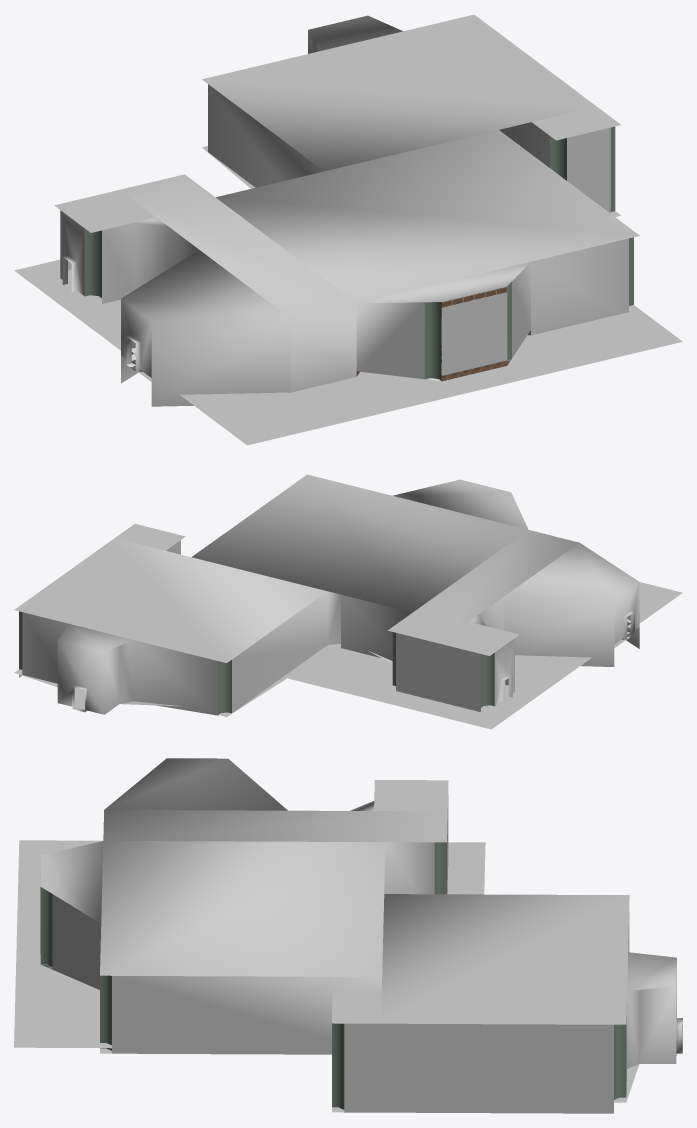
The model's file is basement.fbx.
3 renders of one model, top to bottom at view 1: azimuth 30°, elevation 25°; view 2: azimuth 150°, elevation 25°; view 3: azimuth 270°, elevation 25°, orthographic. The views are drawn at different scales.
Parts seen in each view (by area): view 1: Shape_IndexedFaceSet.006, Shape_IndexedFaceSet.059, Shape_IndexedFaceSet.005, Shape_IndexedFaceSet.008, Shape_IndexedFaceSet.009, Shape_IndexedFaceSet; view 2: Shape_IndexedFaceSet.006, Shape_IndexedFaceSet.059, Shape_IndexedFaceSet.005, Shape_IndexedFaceSet.003; view 3: Shape_IndexedFaceSet.006, Shape_IndexedFaceSet.059, Shape_IndexedFaceSet.005.
Boxes of the visible parts, bbox=[...] form: Shape_IndexedFaceSet.006: bbox=[54, 14, 639, 406]; Shape_IndexedFaceSet.059: bbox=[14, 259, 682, 445]; Shape_IndexedFaceSet.005: bbox=[84, 126, 633, 380]; Shape_IndexedFaceSet.008: bbox=[442, 326, 507, 375]; Shape_IndexedFaceSet.009: bbox=[442, 292, 507, 341]; Shape_IndexedFaceSet: bbox=[137, 286, 530, 381]; Shape_IndexedFaceSet.006: bbox=[14, 474, 639, 715]; Shape_IndexedFaceSet.059: bbox=[287, 582, 682, 729]; Shape_IndexedFaceSet.005: bbox=[19, 611, 494, 714]; Shape_IndexedFaceSet.003: bbox=[14, 639, 626, 716]; Shape_IndexedFaceSet.006: bbox=[40, 758, 682, 1113]; Shape_IndexedFaceSet.059: bbox=[14, 840, 485, 1048]; Shape_IndexedFaceSet.005: bbox=[40, 842, 626, 1109].
Bounding box in the file's own units: 531 × 92.1 × 558.
